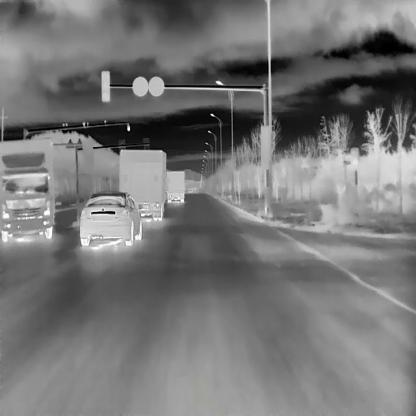car: (78, 191, 142, 246)
truck: (0, 136, 53, 242), (118, 149, 164, 219), (166, 170, 183, 200)
